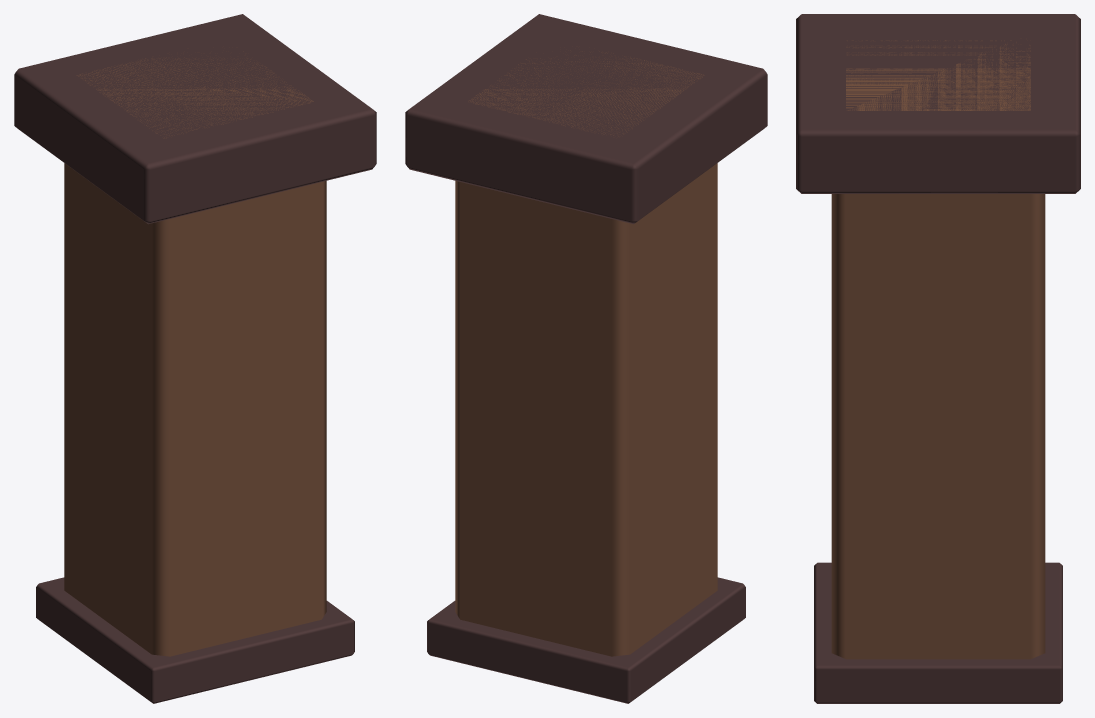
File: ghost-town-bridge-pier.0c134191.glb
3 renders of one model, left to right at view 1: azimuth 30°, elevation 25°; view 2: azimuth 150°, elevation 25°; view 3: azimuth 270°, elevation 25°, orthographic. The views are drawn at different scales.
Parts seen in each view (by area): view 1: body; view 2: body; view 3: body.
Boxes of the visible parts, <box> form: body: <box>14,14,376,703</box>; body: <box>405,14,767,703</box>; body: <box>796,14,1080,703</box>.
Bounding box in the file's own units: 0.8 × 1.8 × 0.8.
